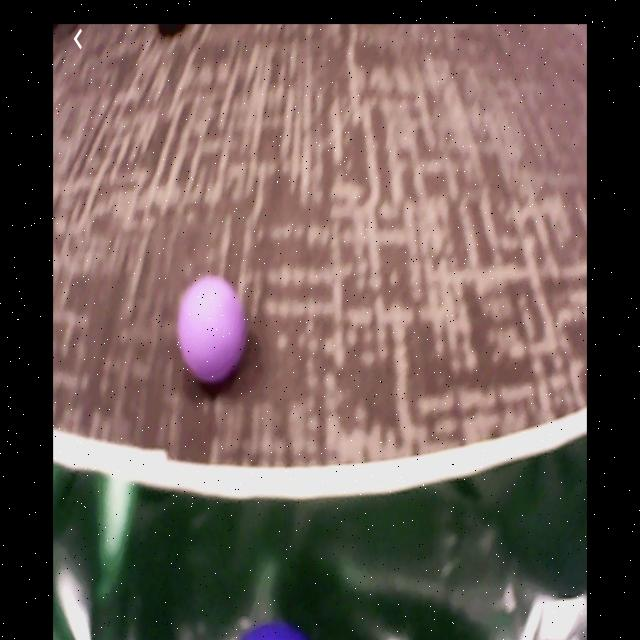ball: (179, 277, 247, 387), (244, 622, 305, 640)
